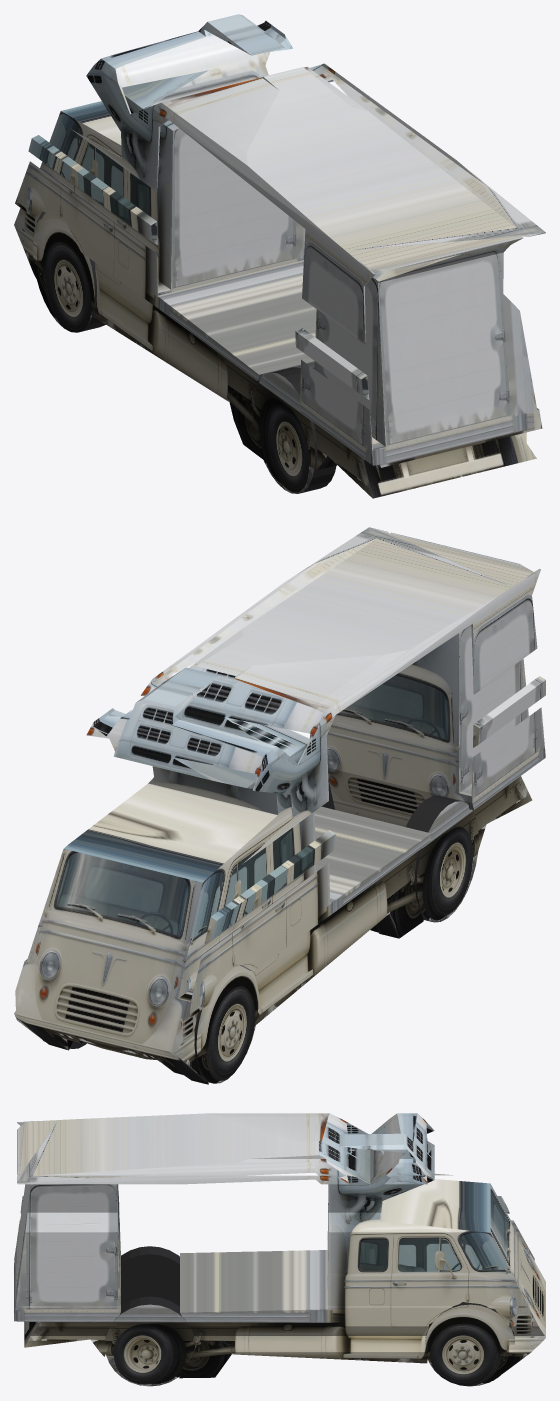
The model's file is refrigerated_truck.glb.
The picture shows the model from 3 angles, top to bottom: view 1: azimuth 30°, elevation 25°; view 2: azimuth 150°, elevation 25°; view 3: azimuth 270°, elevation 25°; orthographic projection. The views are drawn at different scales.
Visible parts, largest first — view 1: refrigerated_truck, wheel_BL, wheel_FL; view 2: refrigerated_truck, wheel_BL, wheel_FL; view 3: refrigerated_truck, wheel_BR, wheel_FR, wheel_BL.
Part boxes in pixels (x1,y1,x2,y2): refrigerated_truck: (14, 14, 545, 498); wheel_BL: (253, 367, 336, 493); wheel_FL: (32, 213, 105, 332); refrigerated_truck: (14, 527, 545, 1084); wheel_BL: (406, 795, 478, 922); wheel_FL: (187, 963, 258, 1083); refrigerated_truck: (14, 1113, 545, 1380); wheel_BR: (105, 1296, 195, 1386); wheel_FR: (425, 1302, 514, 1386); wheel_BL: (121, 1246, 179, 1306).
Bounding box in the file's own units: 2.42 × 4.04 × 8.49.
3 materials, 1 textured.
